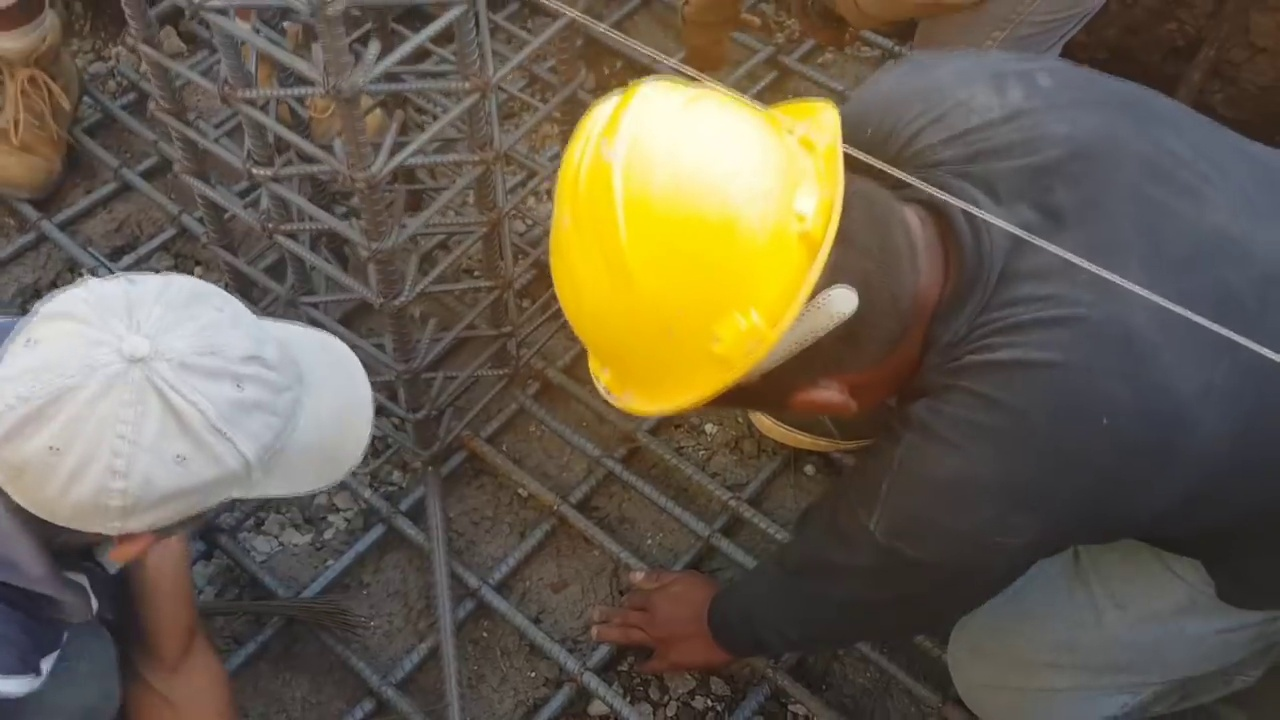helmet: (547, 89, 846, 430)
helmet-off: (0, 266, 373, 542)
helmet-on: (544, 76, 970, 450)
person: (542, 44, 1280, 718), (0, 261, 375, 714)
